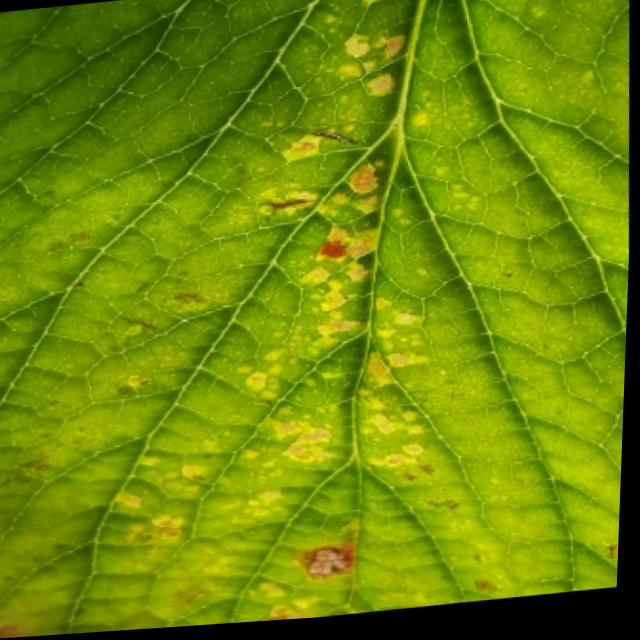Angular Leafspot: (0, 0, 625, 639)
